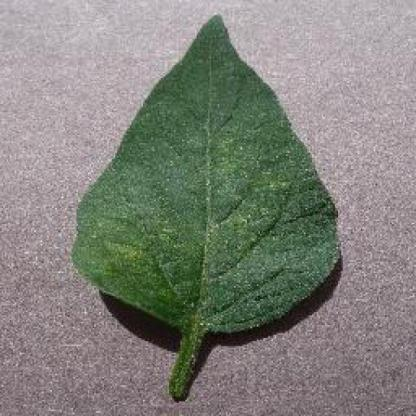Tomato_Spider_Mites: (70, 15, 341, 332)
